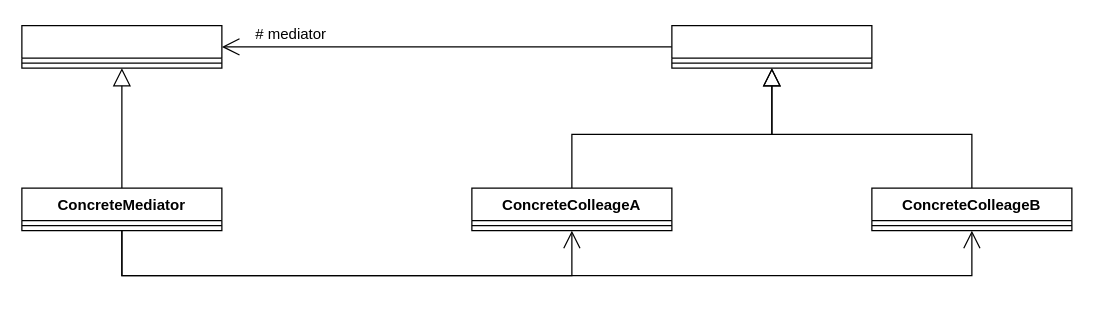
Image size: 1094x315. Some labels were removed from this diagram. The centre of each missing label's shape, as x and y in pixels:
"Colleage" belongs at [771,46].
"Mediator" belongs at [121,46].
